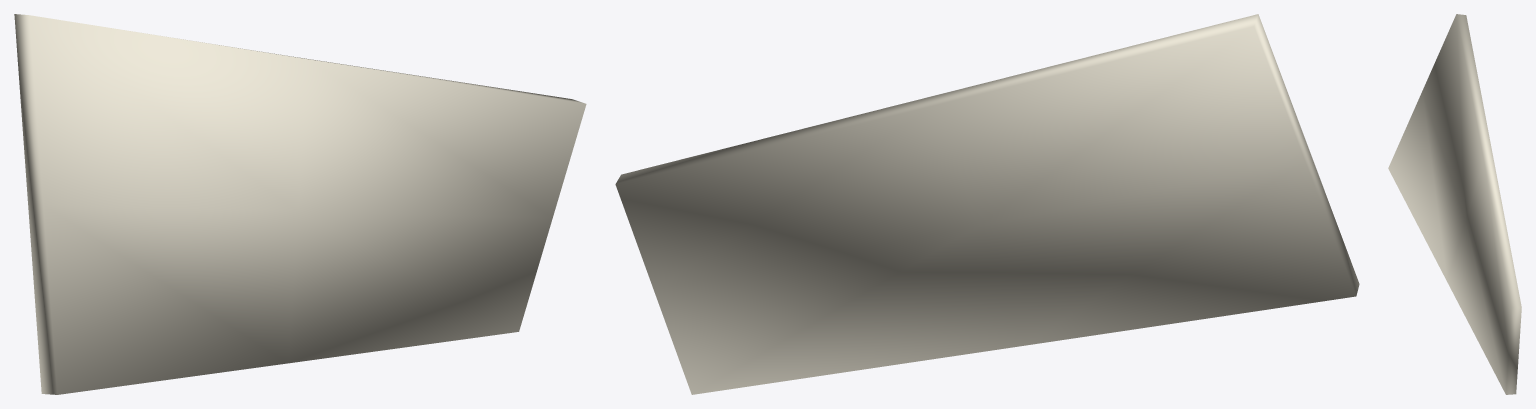
3 views of the same model, side by side, from view 1: azimuth 30°, elevation 25°; view 2: azimuth 150°, elevation 25°; view 3: azimuth 270°, elevation 25° (orthographic). The views are drawn at different scales.
Parts seen in each view (by area): view 1: ZA_95cebea24bd44631; view 2: ZA_95cebea24bd44631; view 3: ZA_95cebea24bd44631.
Part boxes in pixels (x1,y1,x2,y2): ZA_95cebea24bd44631: (14, 14, 586, 394); ZA_95cebea24bd44631: (615, 14, 1359, 394); ZA_95cebea24bd44631: (1388, 14, 1521, 394).
Size of the model in its own units: 0.0181 by 0.0128 by 0.00624.
